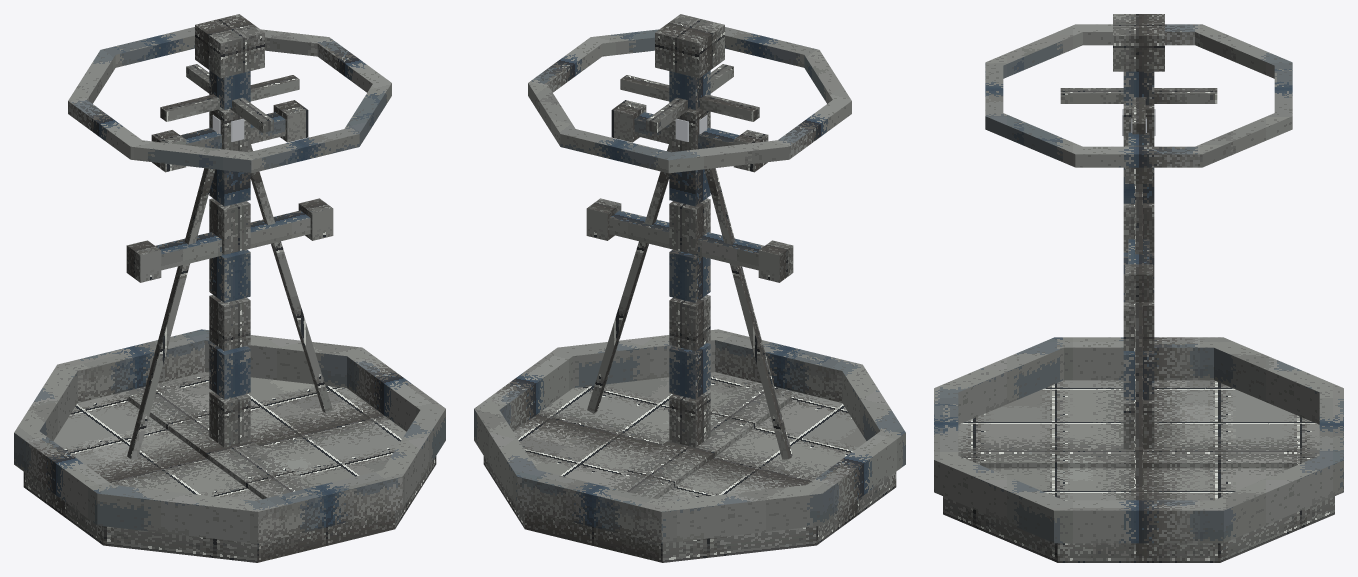
The model's file is checkpoint_anchor.glb.
3 views of the same model, side by side, from view 1: azimuth 30°, elevation 25°; view 2: azimuth 150°, elevation 25°; view 3: azimuth 270°, elevation 25° (orthographic).
Parts seen in each view (by area): view 1: checkpoint_anchor; view 2: checkpoint_anchor; view 3: checkpoint_anchor.
Part boxes in pixels (x1,y1,x2,y2): checkpoint_anchor: (14, 14, 445, 562); checkpoint_anchor: (474, 14, 905, 562); checkpoint_anchor: (934, 14, 1343, 562).
Bounding box in the file's own units: 2.51 × 3.08 × 2.51.
3 materials, 2 textured.
